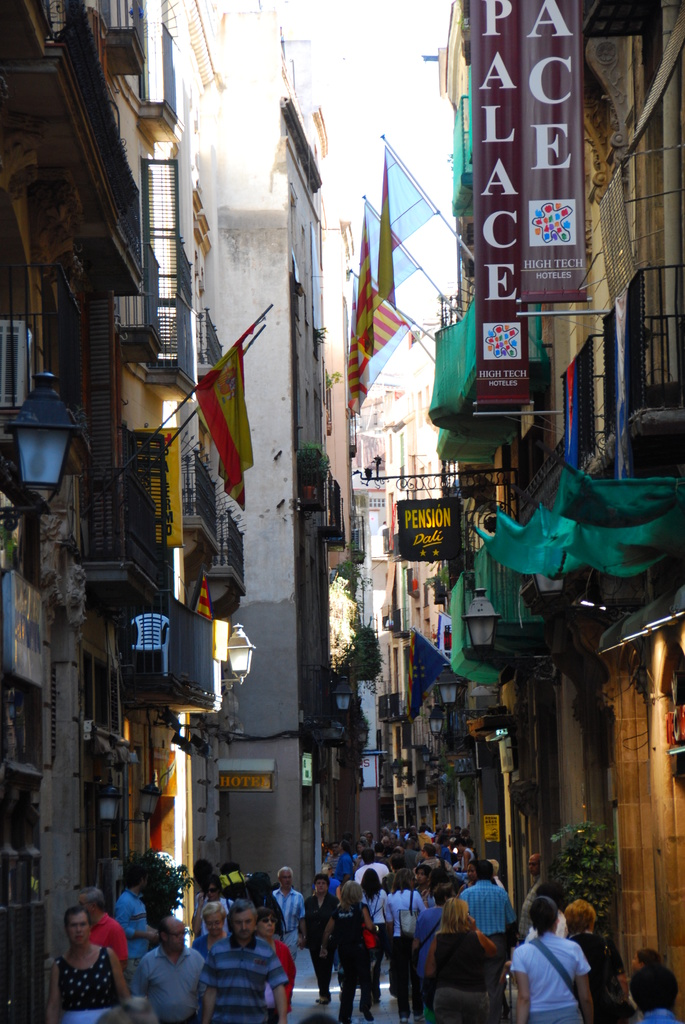Human-face: (369, 819, 474, 860), (231, 910, 258, 943), (166, 926, 189, 954), (68, 914, 87, 945), (257, 914, 274, 938), (75, 893, 89, 919), (206, 917, 222, 936), (526, 856, 540, 877), (206, 881, 220, 901), (278, 872, 294, 889), (631, 952, 643, 972), (315, 877, 327, 893), (409, 872, 420, 888), (465, 865, 475, 881), (416, 868, 425, 884), (143, 874, 148, 896), (363, 833, 372, 844), (322, 842, 330, 854), (330, 842, 337, 854), (356, 842, 363, 854)
